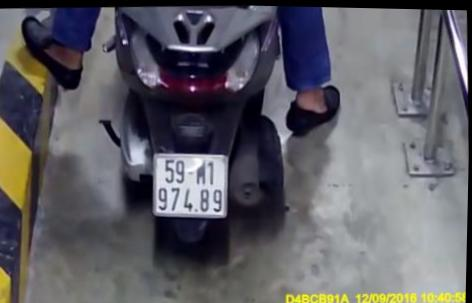LP: (151, 147, 229, 220)
